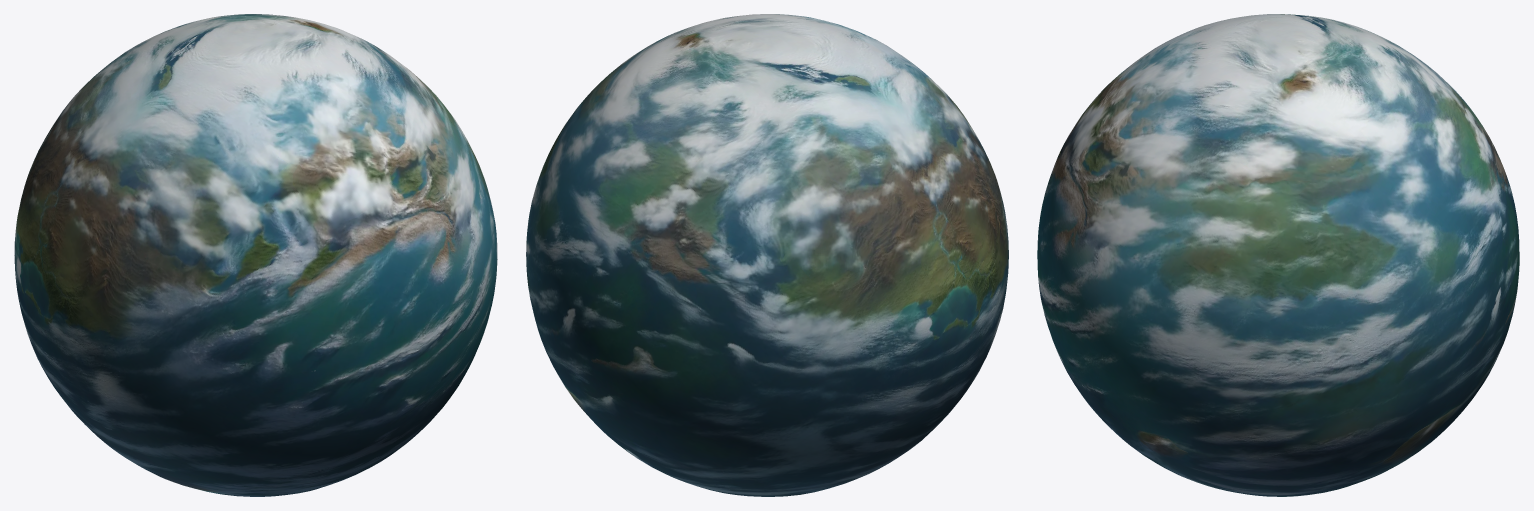
File: normal_planet_6.glb
3 views of the same model, side by side, from view 1: azimuth 30°, elevation 25°; view 2: azimuth 150°, elevation 25°; view 3: azimuth 270°, elevation 25° (orthographic).
Parts seen in each view (by area): view 1: Mesh_0.043; view 2: Mesh_0.043; view 3: Mesh_0.043.
Part boxes in pixels (x1=…): Mesh_0.043: x1=14, y1=14, x2=497, y2=496; Mesh_0.043: x1=526, y1=14, x2=1008, y2=496; Mesh_0.043: x1=1037, y1=14, x2=1519, y2=496.
Size of the model in its own units: 2 by 2 by 2.
Materials: 1 (1 with a texture image).
